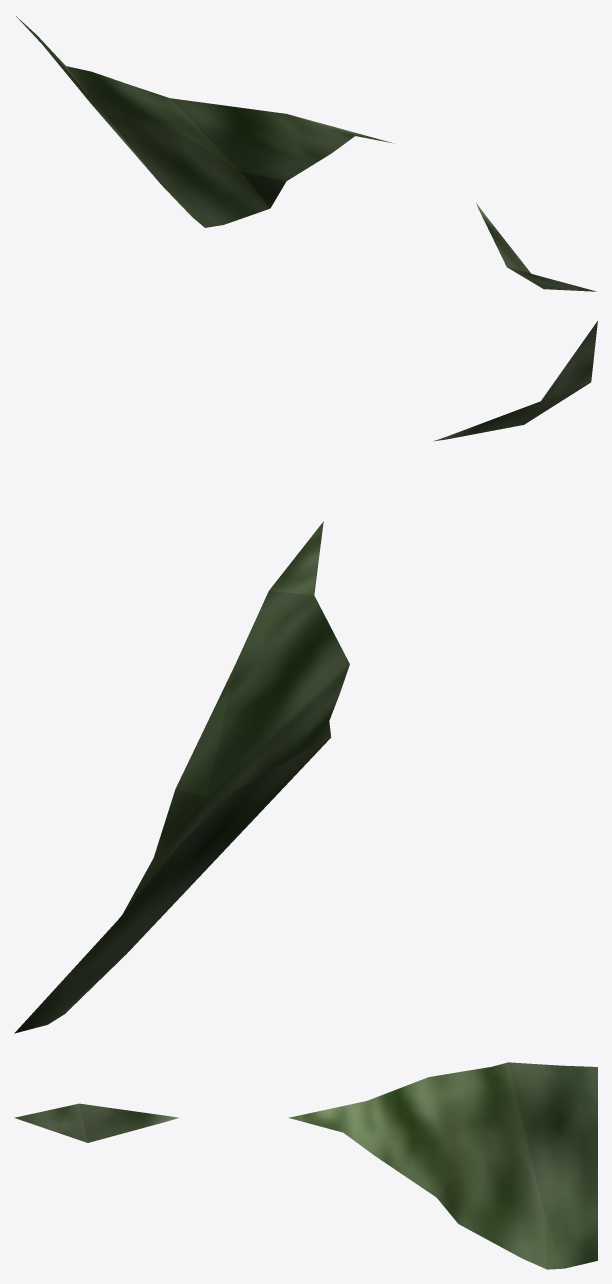
3 views of the same model, one above another, from view 1: azimuth 30°, elevation 25°; view 2: azimuth 150°, elevation 25°; view 3: azimuth 270°, elevation 25° (orthographic). The views are drawn at different scales.
Bounding box in the file's own units: 0.2937 × 0.3748 × 1.31.
Materials: 1 (1 with a texture image).
